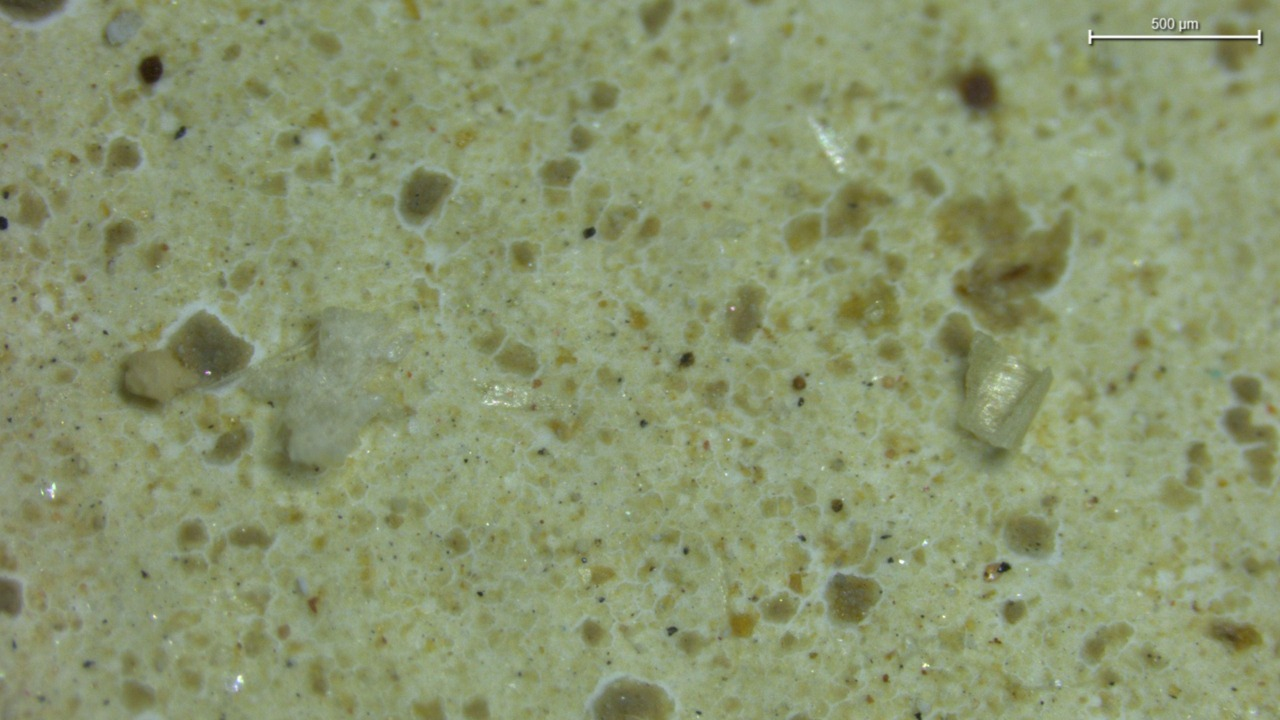microplastic_fragment: (242, 310, 395, 469), (957, 333, 1052, 449)
